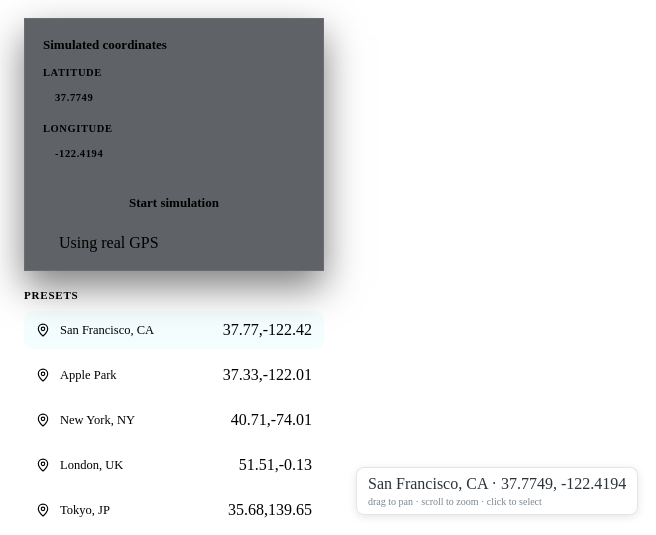
Test: current surface acceptance › starts Location with the selected device and clears it when leaving the page
Click the button "Start simulation": (174, 203) [43,184,305,222]
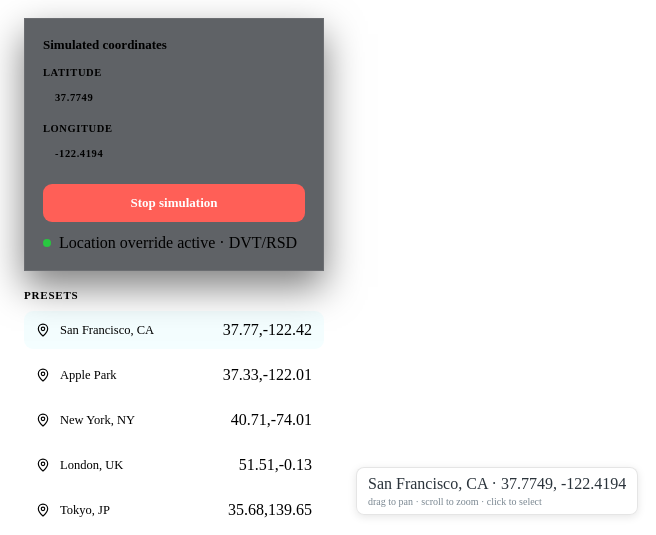
expect the text "Location override active · DVT/RSD" is shown: met, box [43,234,305,252]
